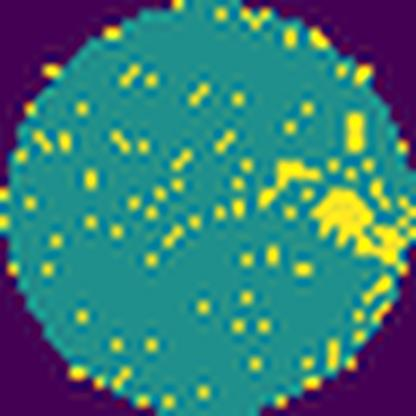Loc: (308, 186, 404, 268), (258, 158, 325, 210)
